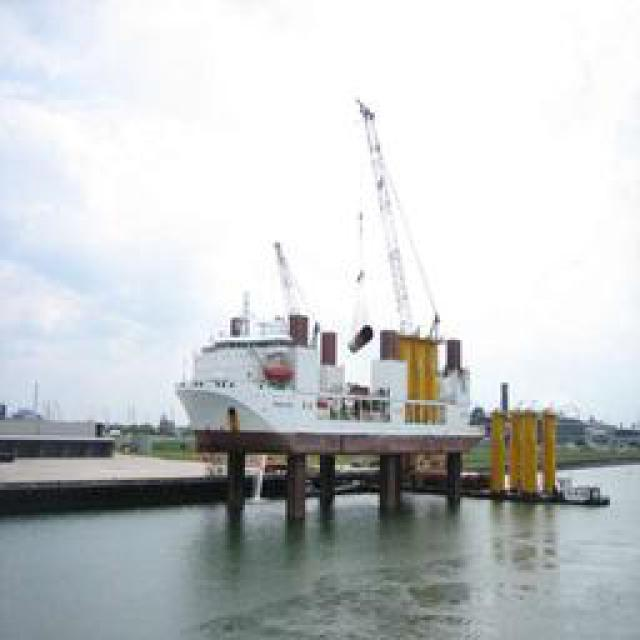Ship: (174, 94, 487, 484)
